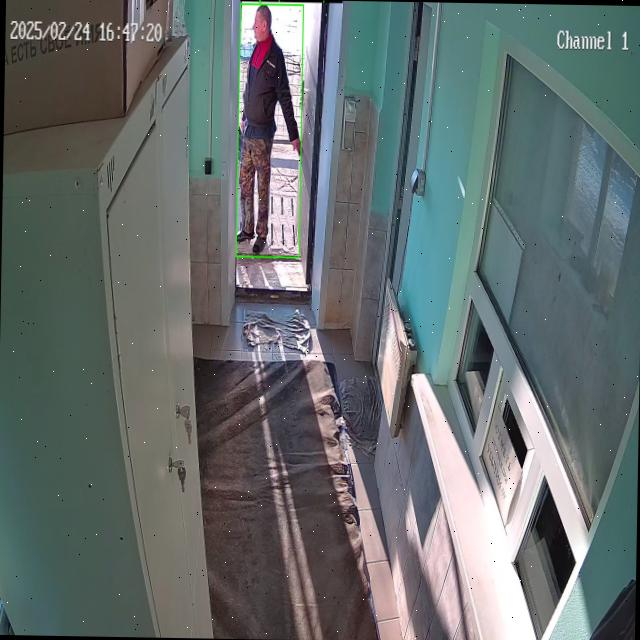Person: (236, 5, 300, 253)
